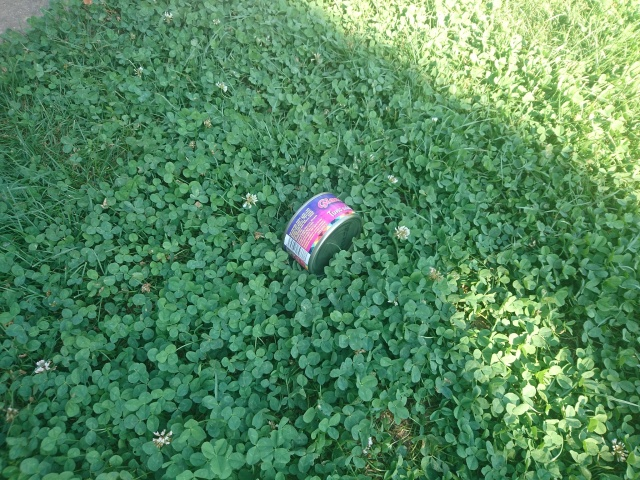Giana Tuna Salad Mexico 185g: (277, 188, 366, 278)
